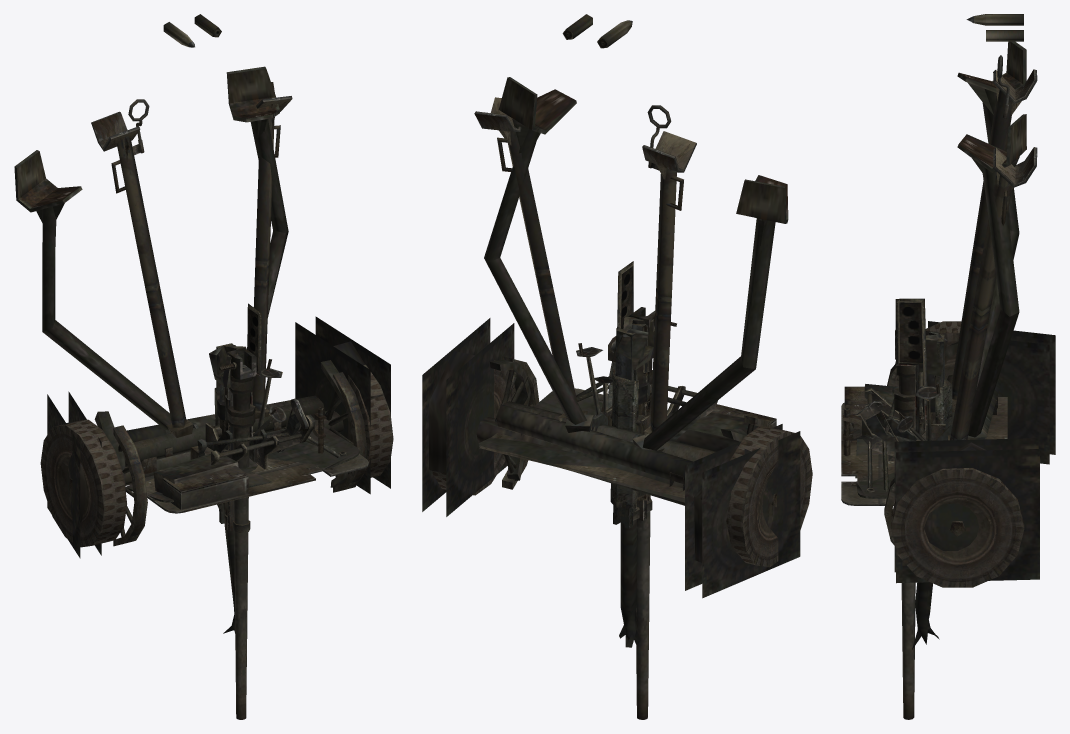
3 renders of one model, left to right at view 1: azimuth 30°, elevation 25°; view 2: azimuth 150°, elevation 25°; view 3: azimuth 270°, elevation 25°, orthographic. The views are drawn at different scales.
Parts seen in each view (by area): view 1: Wrecked_Legs, Shield, Wrecked_Wheels, Wheel_R, Leg_R, Wrecked_Shield, New_Guards, Leg_L, New_Barrel, Axels, Wheel_L, Wrecked_Barrel (+3 smaller); view 2: Wrecked_Wheels, Wrecked_Legs, Leg_R, Wrecked_Shield, Wrecked_Axels, Wheel_R, Leg_L, Shield, Wrecked_Barrel, Wrecked_Guards, New_Guards, New_Barrel (+2 smaller); view 3: Wrecked_Wheels, Wheel_L, Wrecked_Legs, Shield, Leg_L, Leg_R, Wrecked_Shield, New_Barrel, Wrecked_Barrel, New_Guards, Wheel_R, New_Ready_Shell (+2 smaller).
Boxes of the visible parts, x1,y1,x2,y2 form: Wrecked_Legs: (14,66,288,434); Shield: (145,303,368,533); Wrecked_Wheels: (47,316,390,558); Wheel_R: (40,419,126,547); Leg_R: (91,99,193,437); Wrecked_Shield: (126,343,359,524); New_Guards: (113,372,366,546); Leg_L: (252,82,292,418); New_Barrel: (232,393,249,719); Axels: (122,397,344,485); Wheel_L: (348,364,393,479); Wrecked_Barrel: (209,346,246,633); Wrecked_Wheels: (422,318,800,598); Wrecked_Legs: (484,77,788,451); Leg_R: (642,105,696,445); Wrecked_Shield: (534,328,756,528); Wrecked_Axels: (476,404,692,505); Wheel_R: (726,426,812,567); Leg_L: (474,97,587,421); Shield: (574,261,776,520); Wrecked_Barrel: (611,316,654,647); Wrecked_Guards: (478,359,747,502); New_Guards: (479,356,772,498); New_Barrel: (636,359,652,719); Wrecked_Wheels: (894,321,1055,583); Wheel_L: (891,468,1024,587); Wrecked_Legs: (957,41,1026,439); Shield: (841,298,945,505); Leg_L: (948,147,1037,440); Leg_R: (952,55,1037,412); Wrecked_Shield: (855,334,952,498); New_Barrel: (899,376,915,719); Wrecked_Barrel: (912,331,947,649); New_Guards: (884,363,1007,545); Wheel_R: (895,321,961,386); New_Ready_Shell: (966,14,1023,25).
Size of the model in its own units: 2.02 by 3.97 by 1.11.
